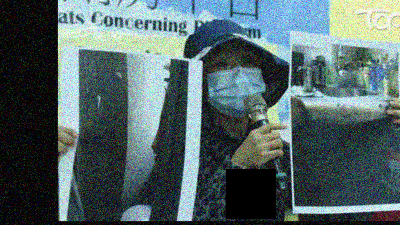with_mask: (202, 52, 266, 117)
